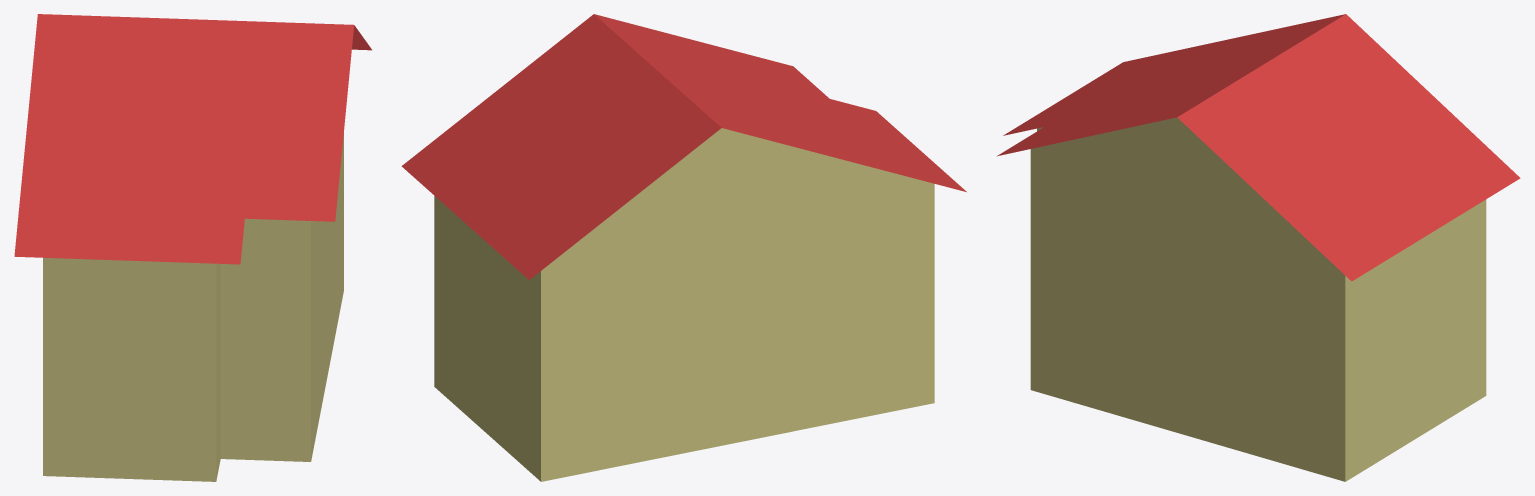
The picture shows the model from 3 angles, left to right: view 1: azimuth 30°, elevation 25°; view 2: azimuth 150°, elevation 25°; view 3: azimuth 270°, elevation 25°; orthographic projection. The views are drawn at different scales.
Parts seen in each view (by area): view 1: group_3, group_5, group_4; view 2: group_5, group_3, group_4; view 3: group_5, group_3, group_4.
Boxes of the visible parts, x1=… form: group_3: x1=14, y1=14, x2=371, y2=264; group_5: x1=43, y1=133, x2=343, y2=481; group_4: x1=15, y1=24, x2=353, y2=256; group_5: x1=434, y1=128, x2=934, y2=481; group_3: x1=417, y1=14, x2=966, y2=279; group_4: x1=401, y1=14, x2=739, y2=278; group_5: x1=1030, y1=117, x2=1486, y2=481; group_3: x1=997, y1=14, x2=1520, y2=281; group_4: x1=1066, y1=14, x2=1519, y2=280.
Size of the model in its own units: 15.76 by 15.92 by 10.99.
